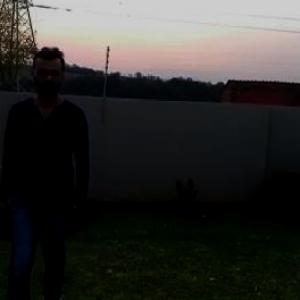follow: (8, 39, 97, 299)
